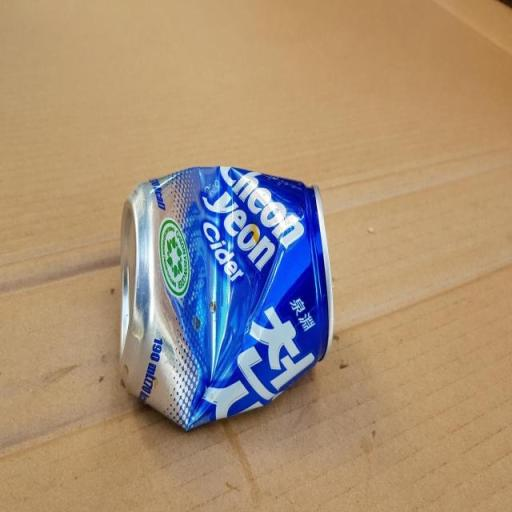metal: (102, 150, 340, 436)
